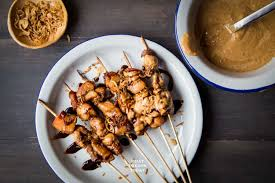sate: (33, 46, 187, 166)
